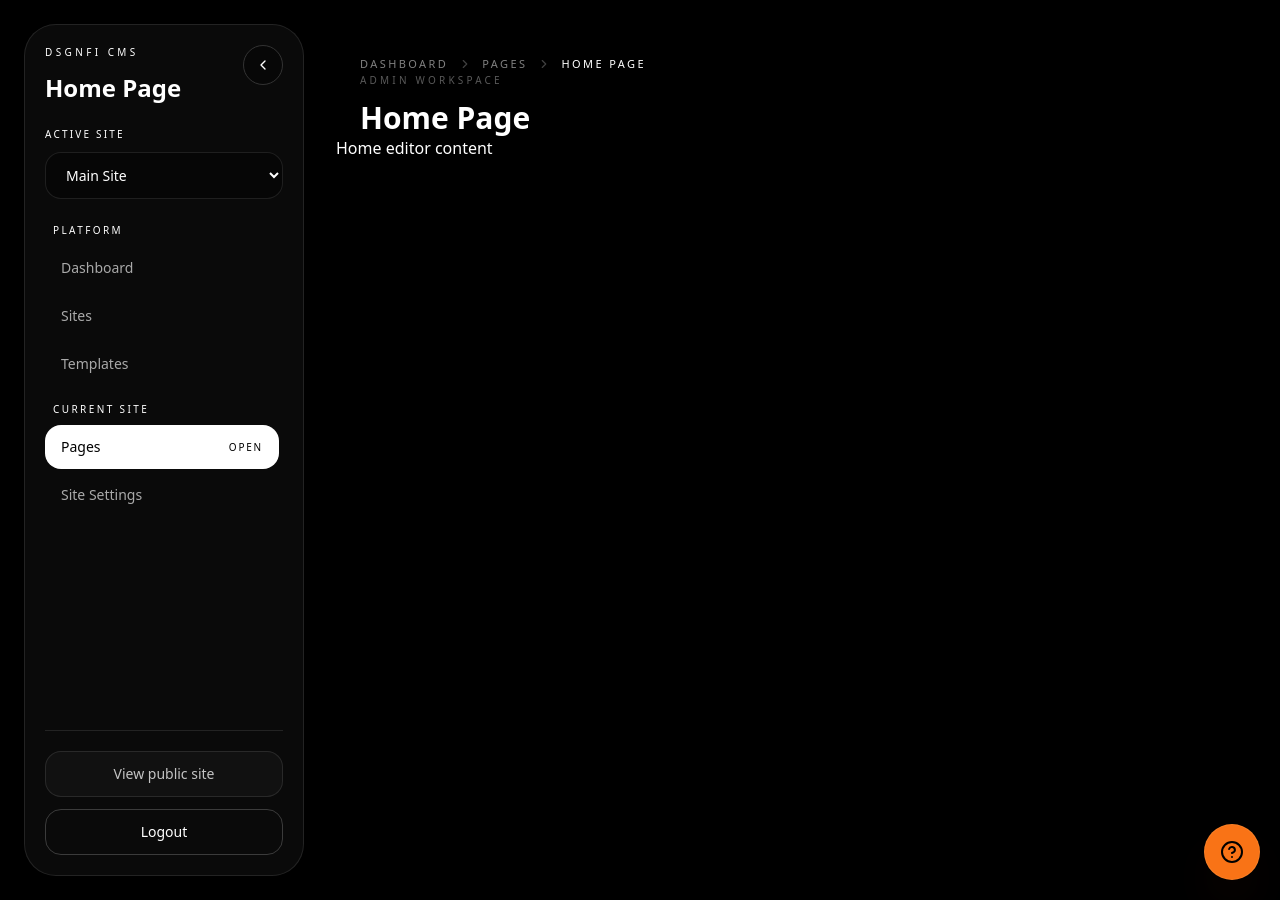
it: AdminShell › opens the AI admin guide and sends route-aware context
Click the button named "Open AI admin guide". click: (1232, 852)
box: x1=1204 y1=824 x2=1260 y2=880
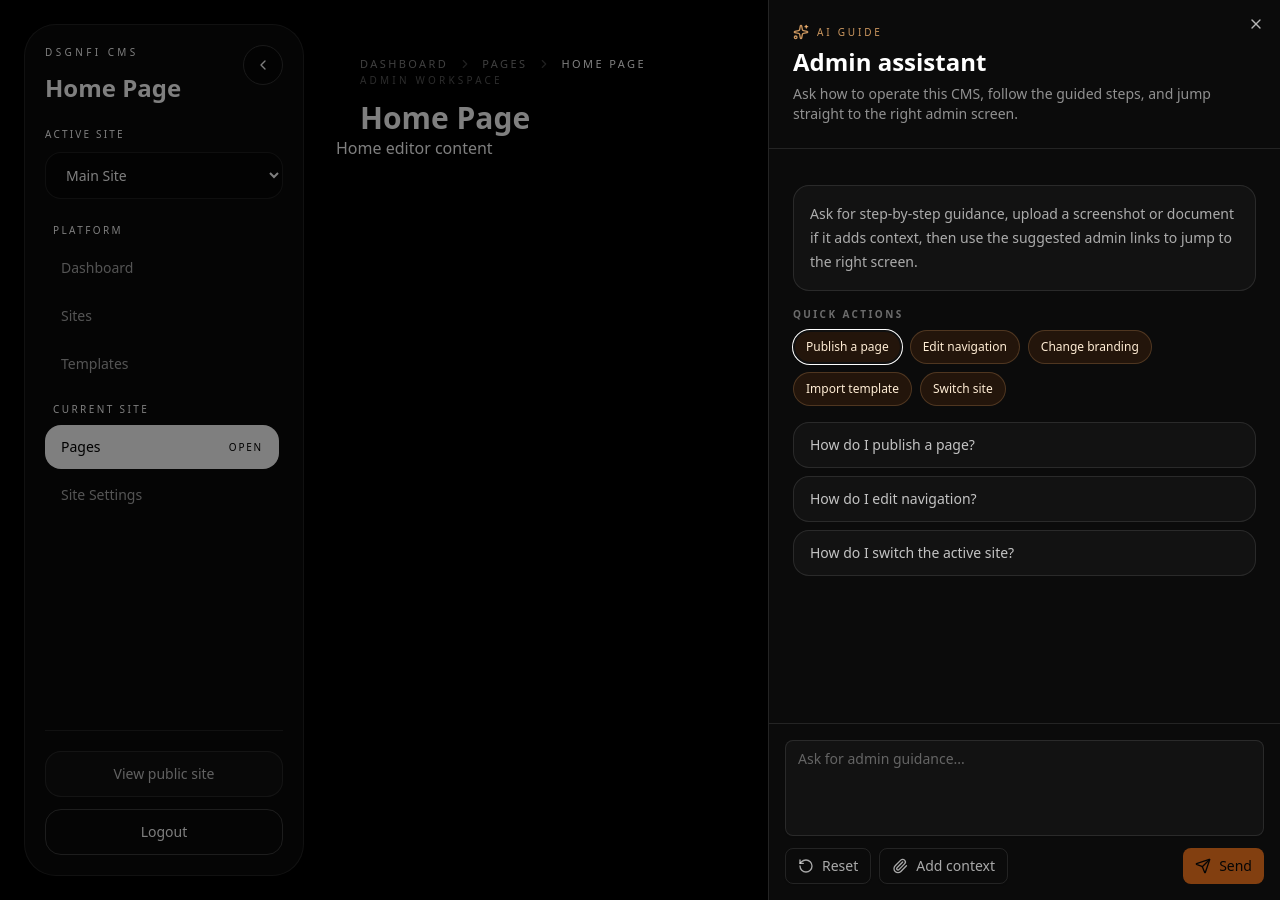
expect the heading "Admin assistant" is shown: met, box x1=793 y1=45 x2=986 y2=78
Click the button "How do I publish a page?". click: (892, 444)
box: x1=793 y1=422 x2=1256 y2=468
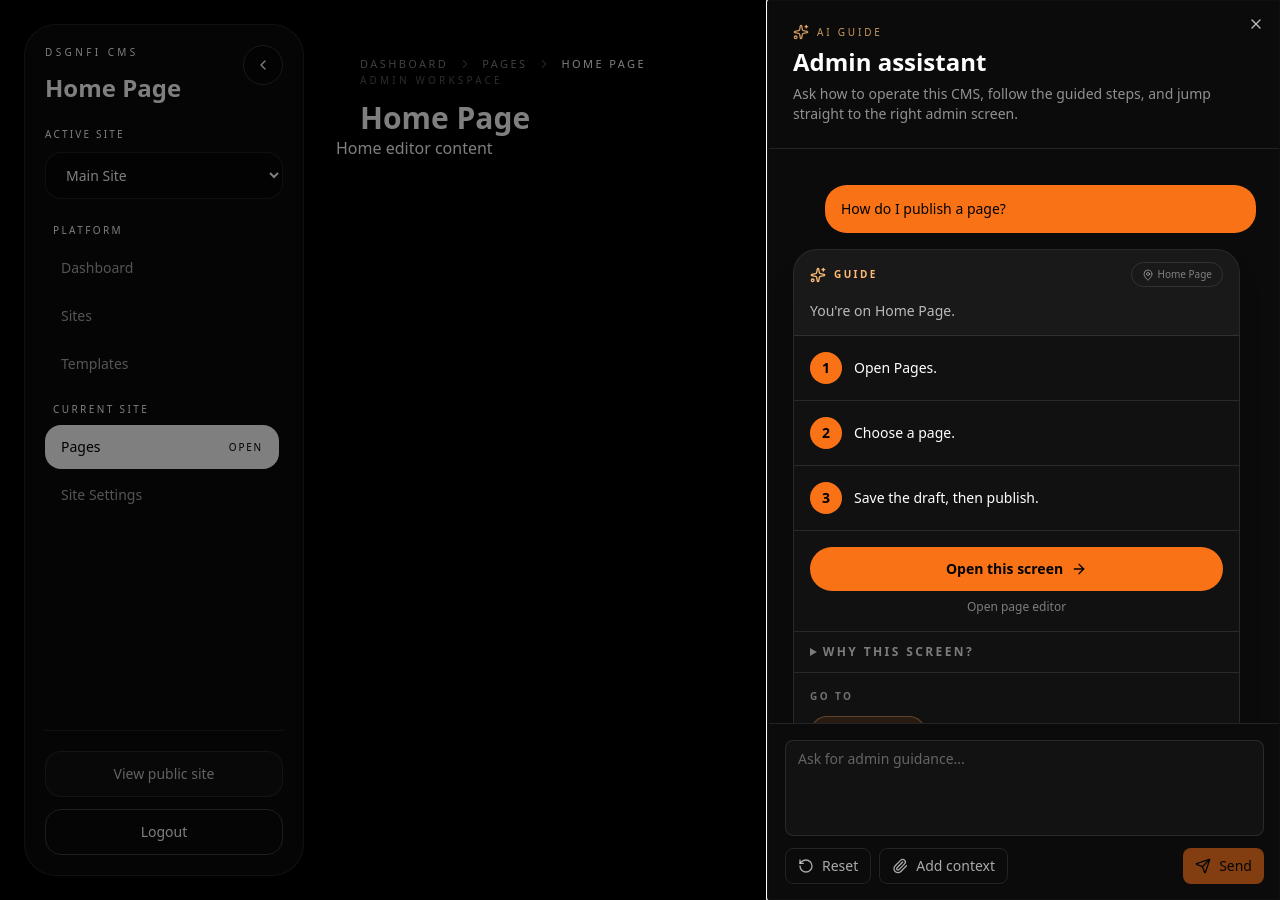
expect the text "You're on Home Page." is shown: met, box x1=810 y1=301 x2=955 y2=320
